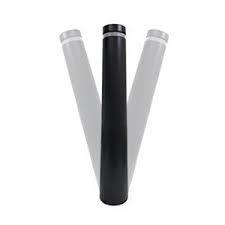Animal: (97, 22, 133, 204)
